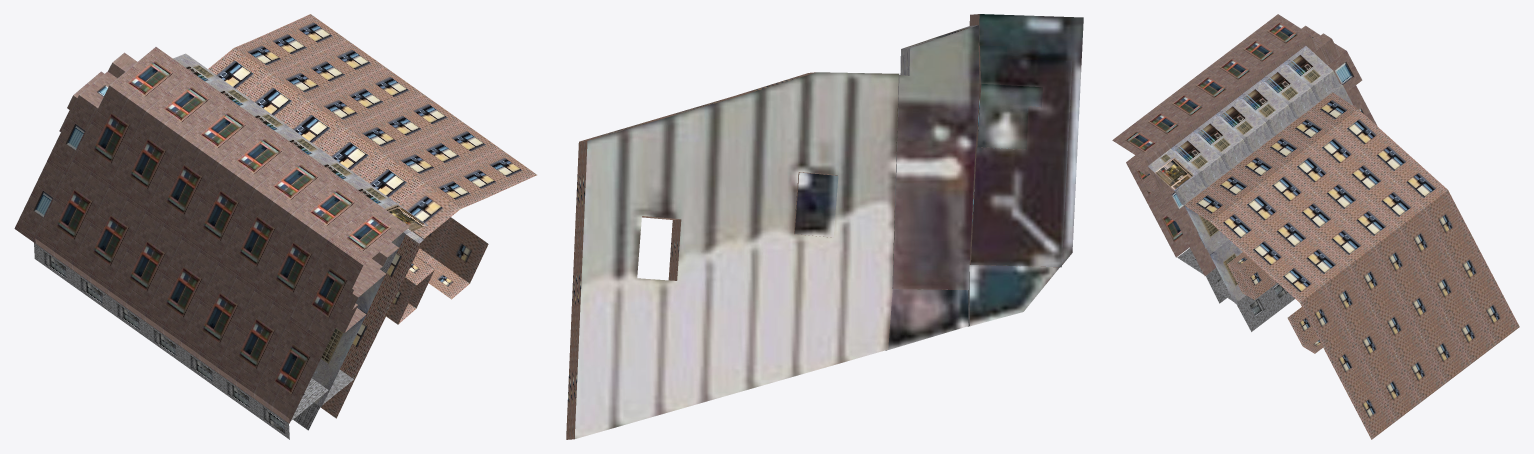
3 views of the same model, side by side, from view 1: azimuth 30°, elevation 25°; view 2: azimuth 150°, elevation 25°; view 3: azimuth 270°, elevation 25° (orthographic). The views are drawn at different scales.
Size of the model in its own units: 41.21 by 35.68 by 44.63.
Materials: 33 (33 with a texture image).
